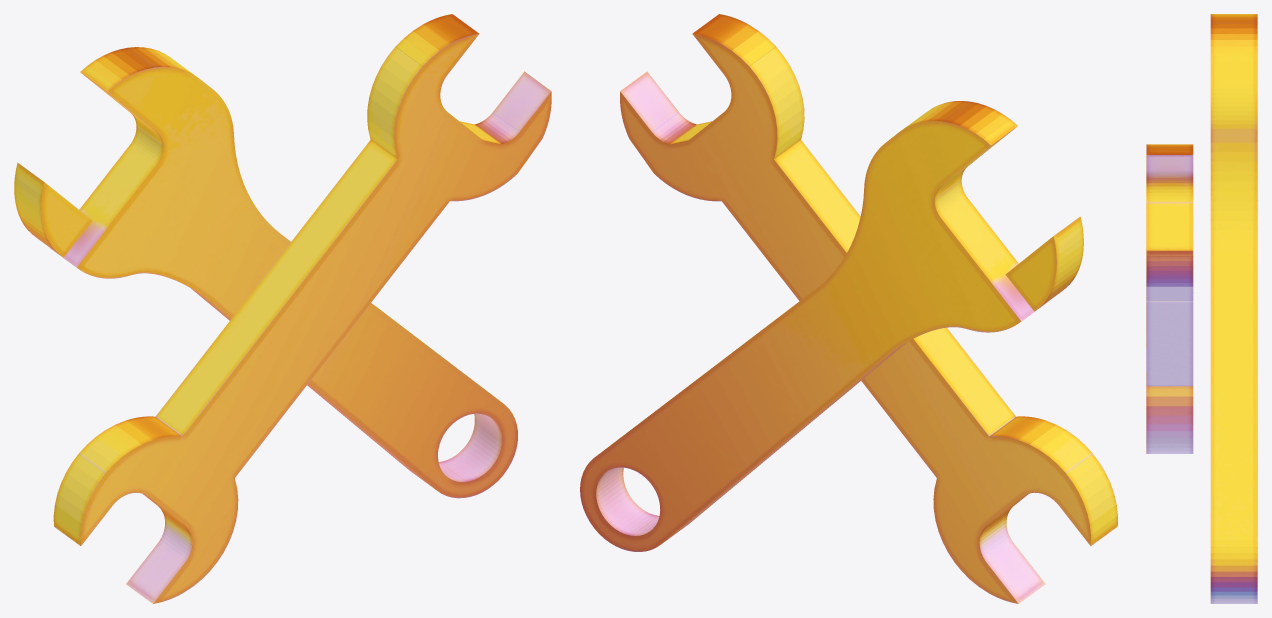
Rendered from INCONOGRAPHY_support_v7.glb.
3 views of the same model, side by side, from view 1: azimuth 30°, elevation 25°; view 2: azimuth 150°, elevation 25°; view 3: azimuth 270°, elevation 25° (orthographic). The views are drawn at different scales.
Parts seen in each view (by area): view 1: spanner, spanner_3; view 2: spanner, spanner_3; view 3: spanner.
Part boxes in pixels (<box>): spanner: <box>50,14,551,603</box>; spanner_3: <box>14,162,92,257</box>; spanner: <box>580,14,1117,603</box>; spanner_3: <box>1005,216,1083,311</box>; spanner: <box>1146,14,1257,603</box>.
Bounding box in the file's own units: 0.9275 × 0.9418 × 0.2149.
10 materials, 9 textured.
